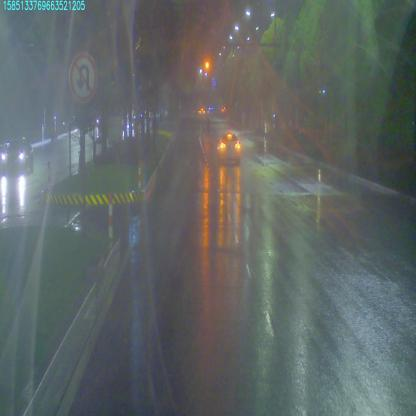traffic-light: (203, 57, 211, 71)
